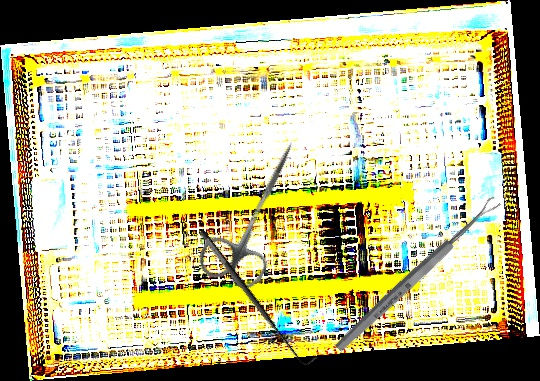Hook Surgical: (197, 221, 318, 371)
Iris Scissors: (193, 127, 319, 297)
Surgical Spoon: (333, 195, 502, 354)
